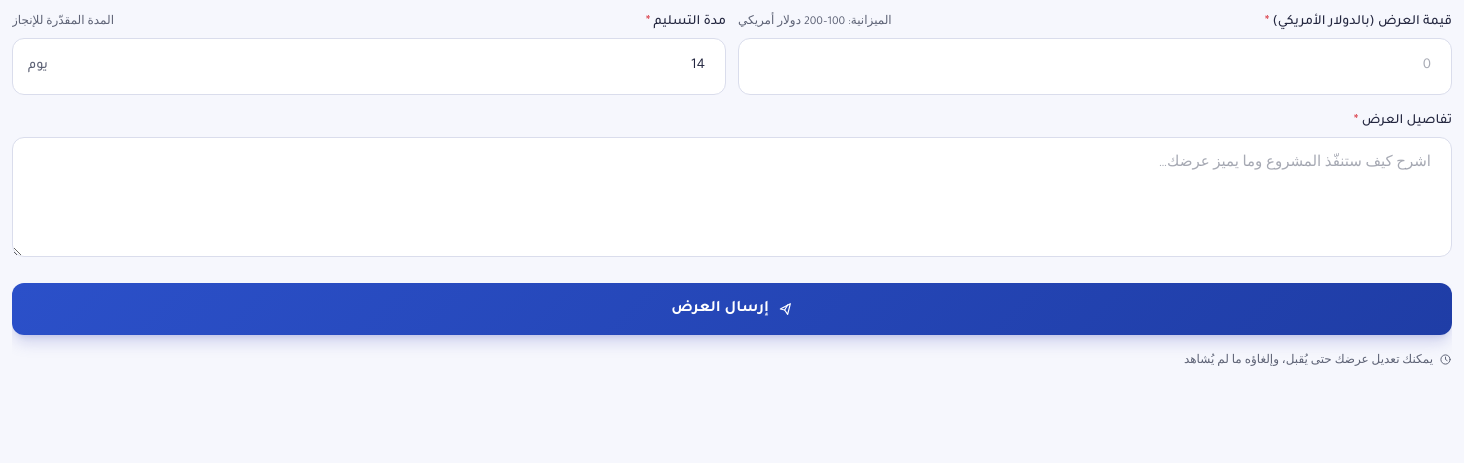
it: ProposalForm — client-side budget/delivery validation (P2-09 / P2-08) › rejects a budget with more than two decimal places
Type "150.999" into the field labelled "قيمة العرض" at coordinates (1095, 66), box [738,38,1452,94]
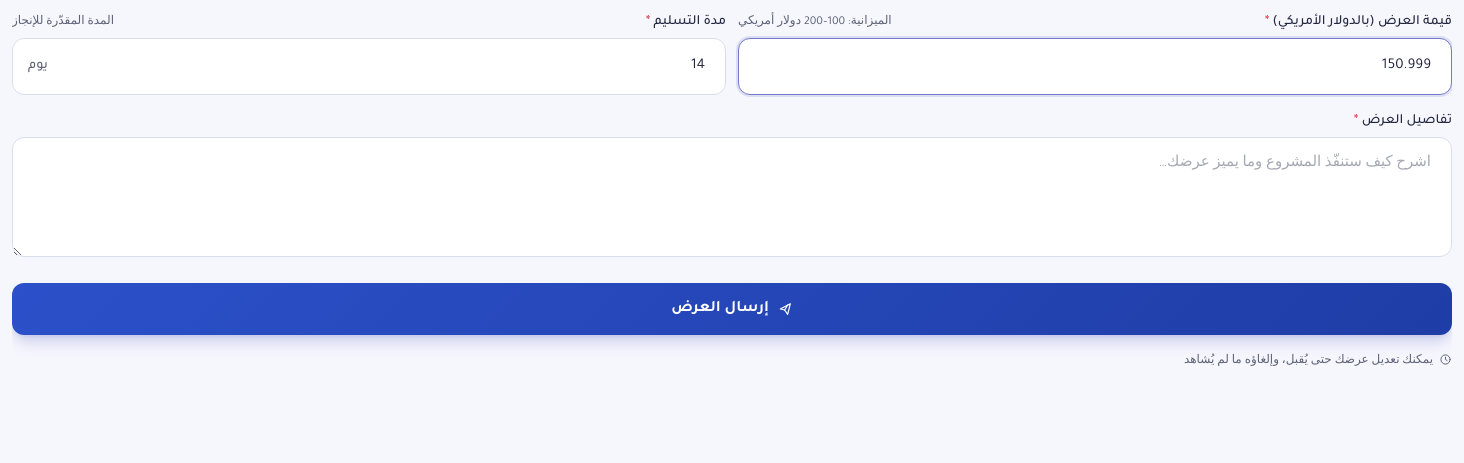
Type "خطة العمل" into the text box labelled "تفاصيل العرض *" at coordinates (732, 196), box [12,136,1452,256]
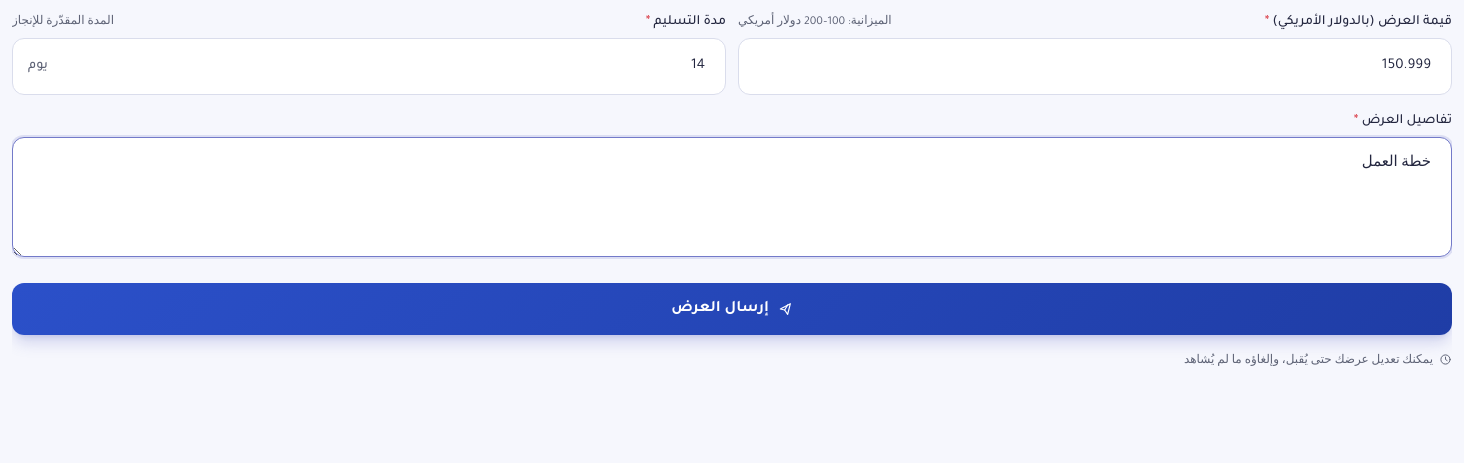
Click the button "إرسال العرض" at coordinates (732, 308), box [12,282,1452,334]
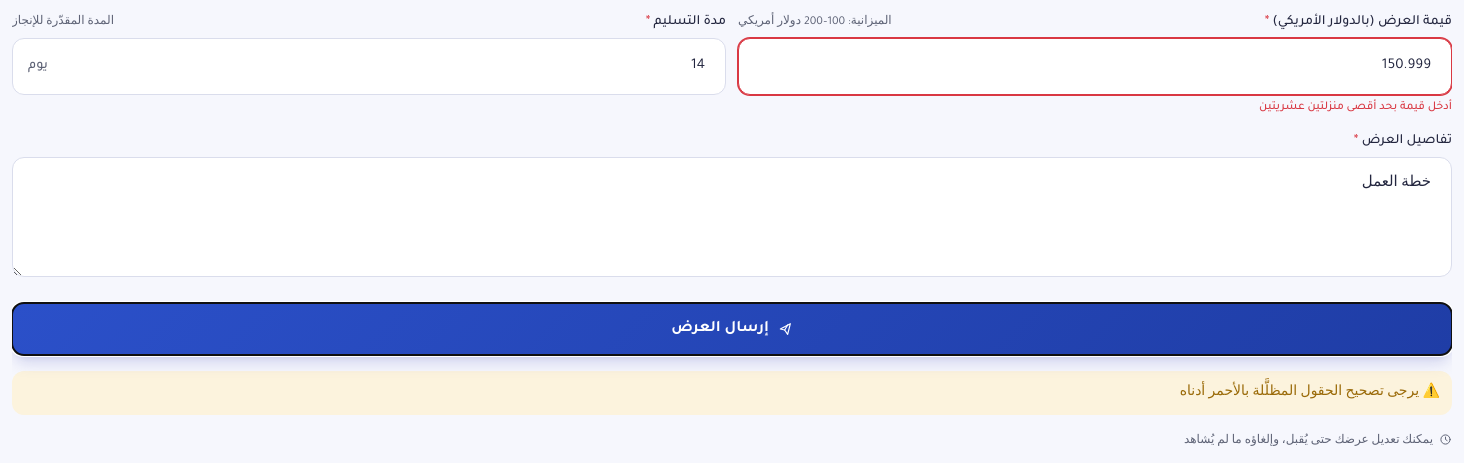
Expected: the text "أدخل قيمة بحد أقصى منزلتين عشريتين" is shown, [1259,100,1452,112]
